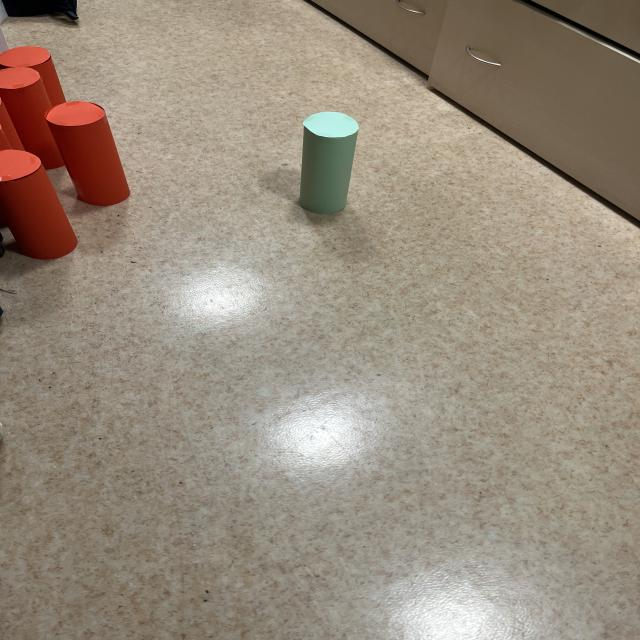meta: (299, 112, 359, 214)
